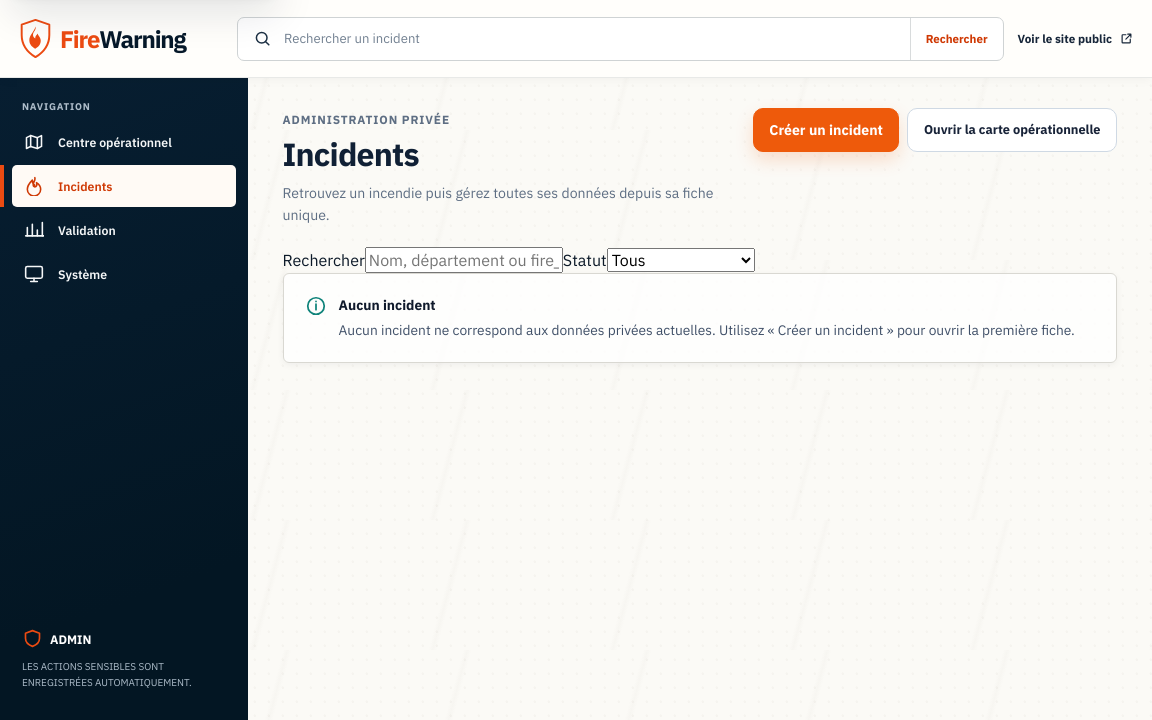
Test case: Routage administrateur privé › conserve la même session pendant la navigation interne admin
The width and height of the screenshot is (1152, 720).
Expected: the heading "Incidents" is shown, [282,133,419,175]
Click the link "Validation" at (70, 230), box [24,220,116,240]
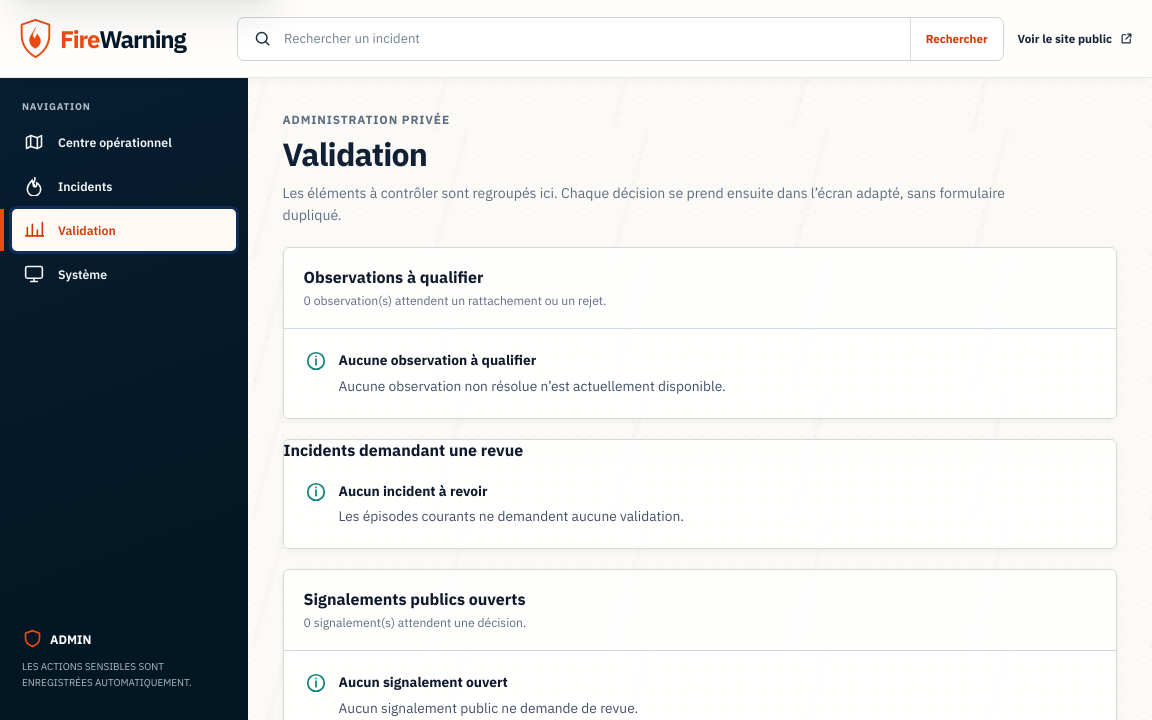
Now the heading "Validation" is shown, box [282,133,427,175]
